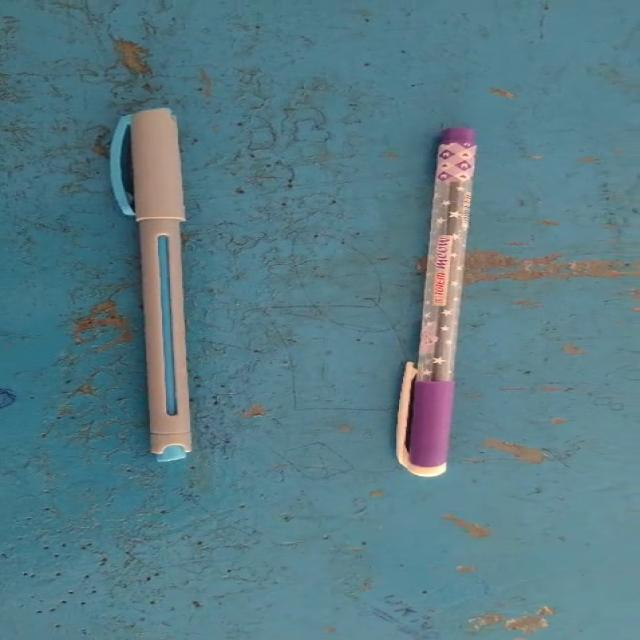pen: (29, 43, 282, 526), (360, 111, 529, 504)
